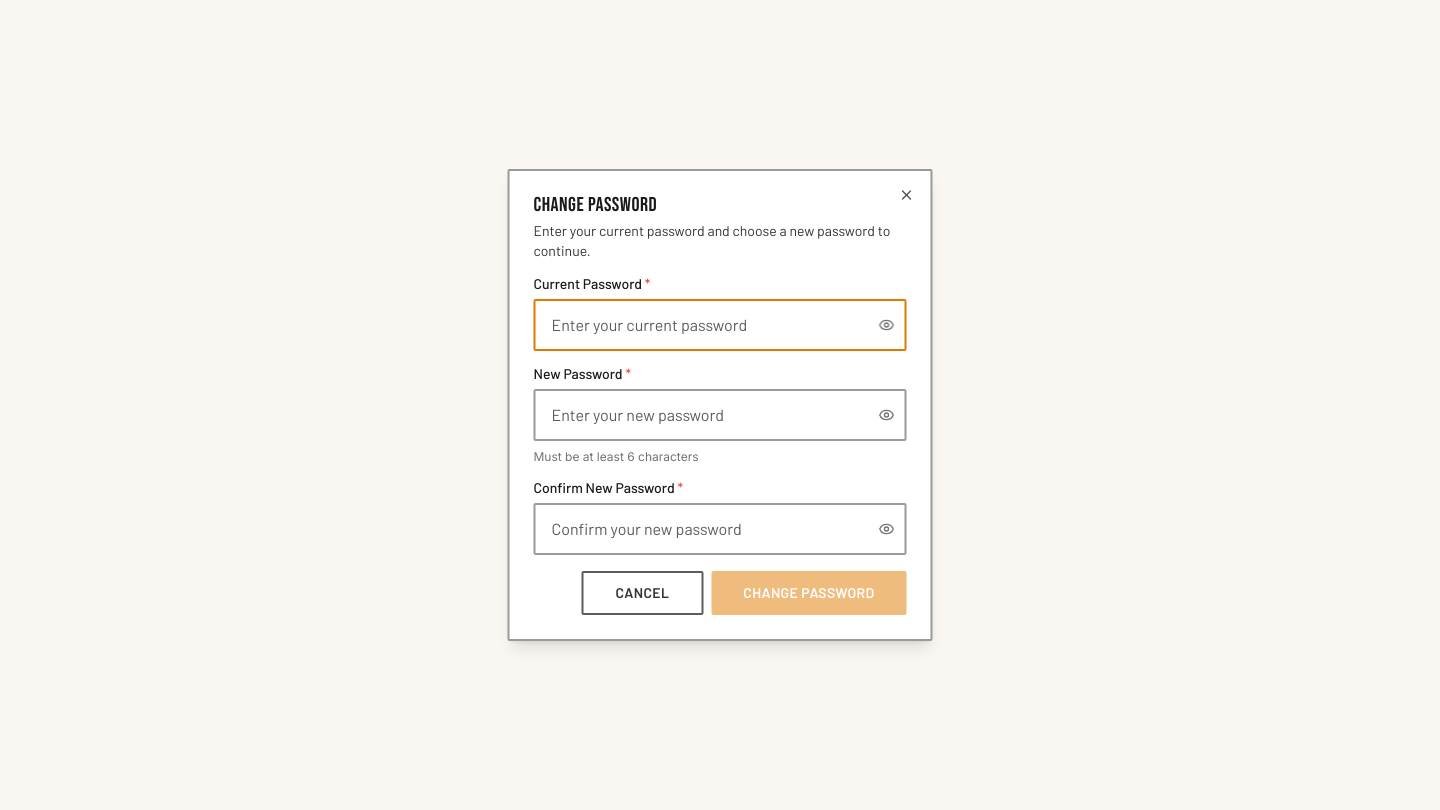
Test: PasswordChangeForm › Password Visibility Toggle › should toggle confirm password visibility
Click the button named "Show confirm password" at [886, 529], box [878,521,894,537]
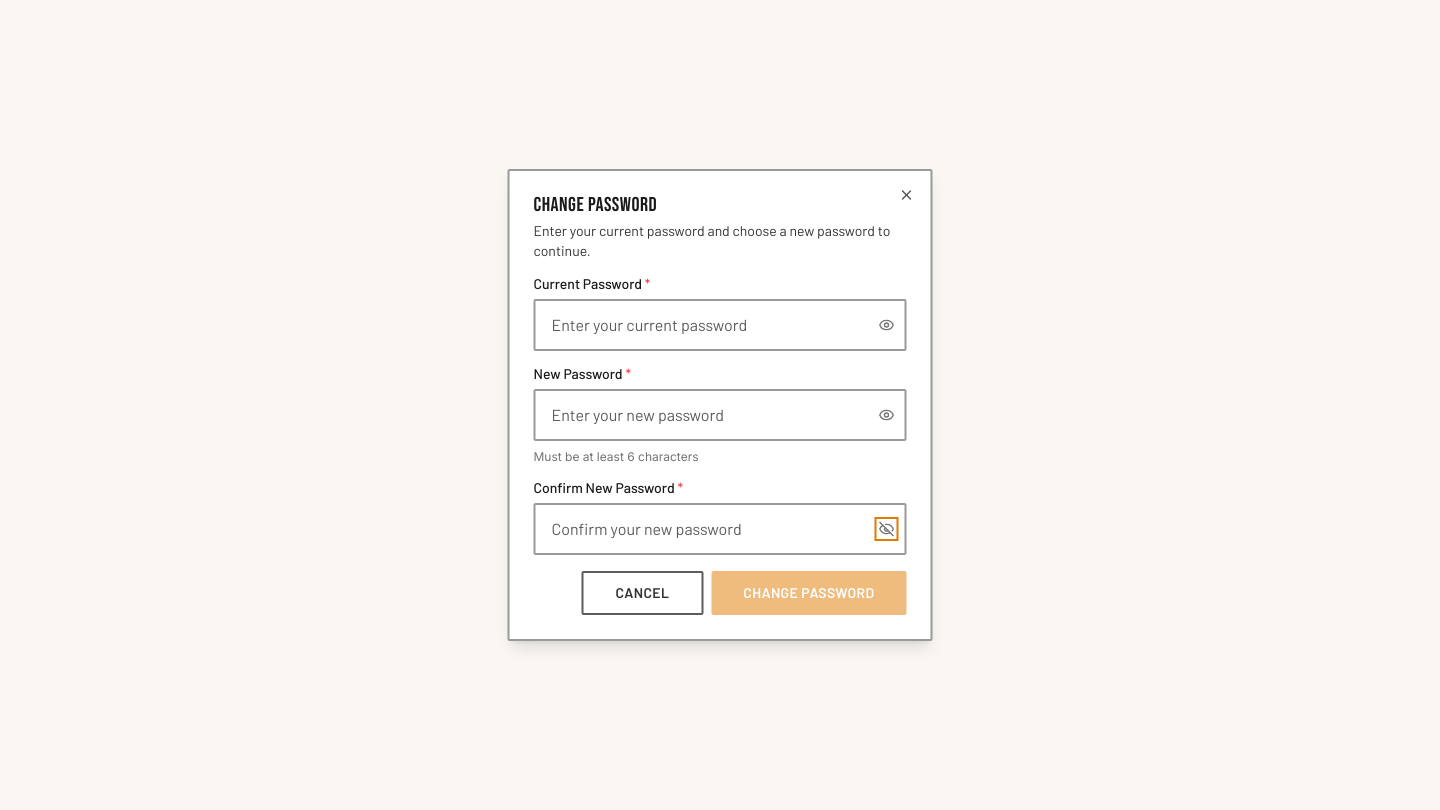
Result: the button named "Hide confirm password" is shown at [878,521,894,537]
